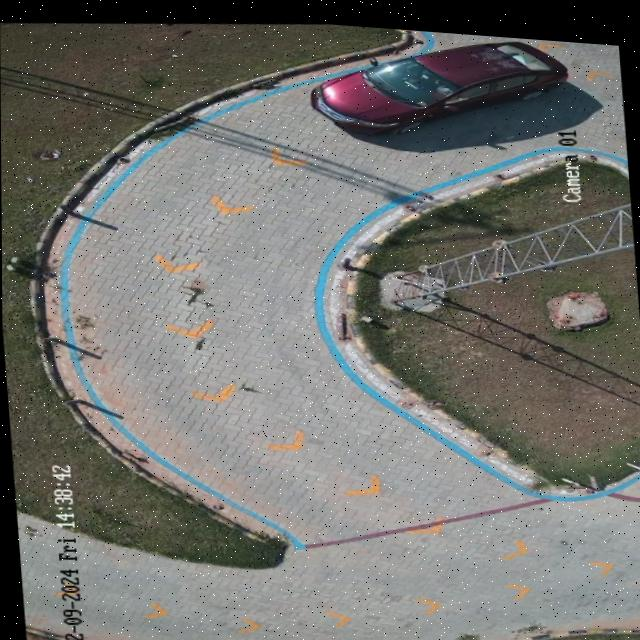car: (313, 31, 567, 130)
